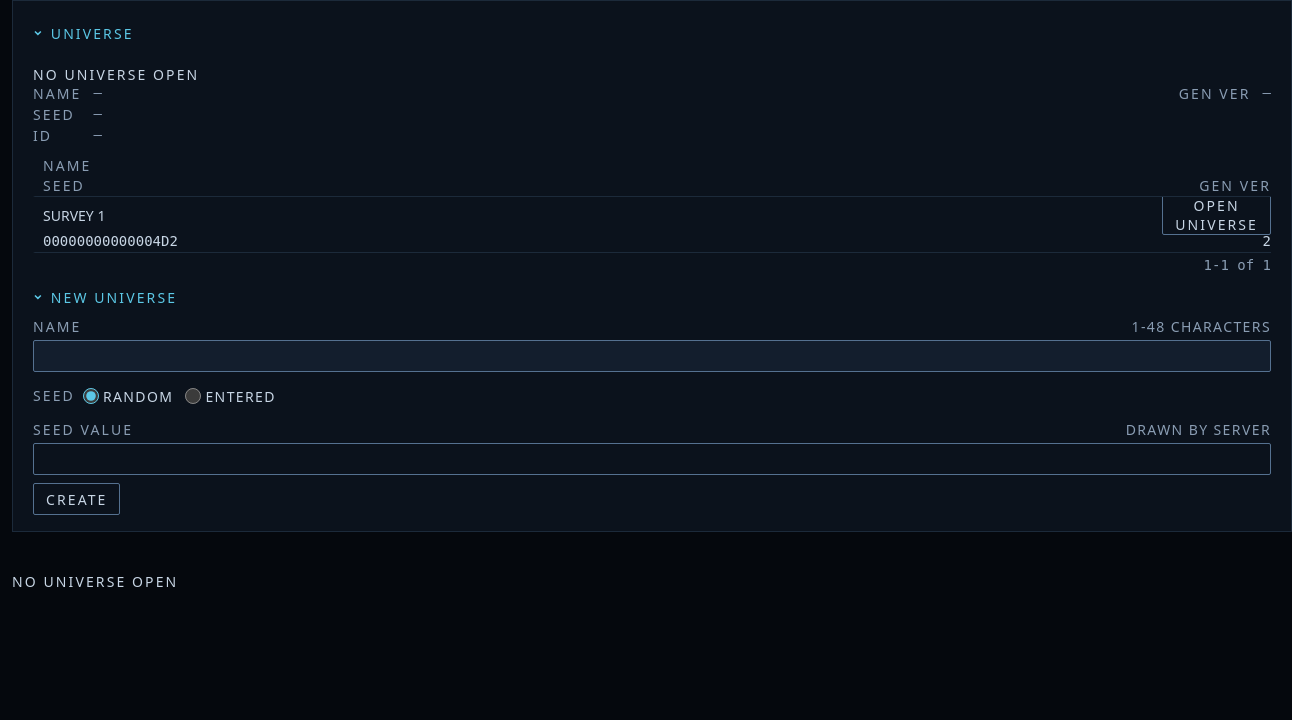
Test: GalaxyMapPanel › offers the population as a radio group, every system first
Click the button with aria-label "Open universe SURVEY 1": (1217, 215) [1162,195,1271,235]
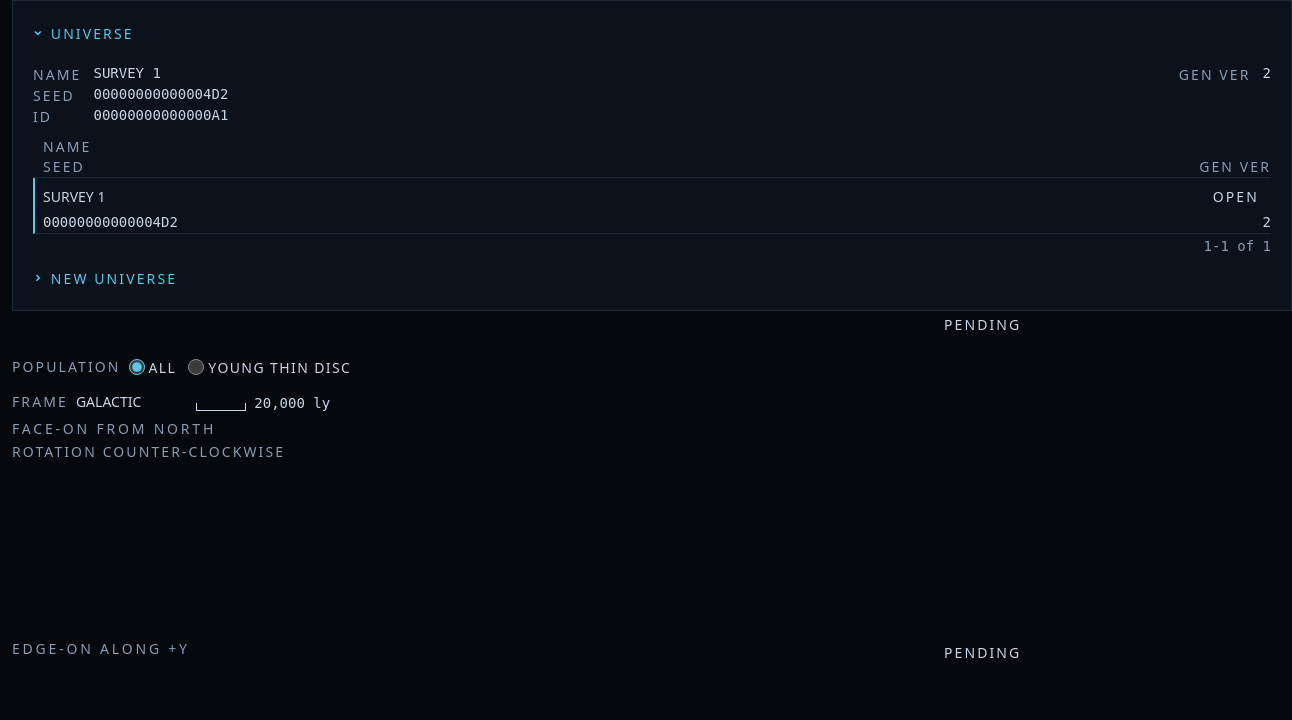
expect the radio button labelled "ALL" is checked: met, box [128,359,144,375]
expect the radio button labelled "YOUNG THIN DISC" is not checked: met, box [188,359,204,375]
